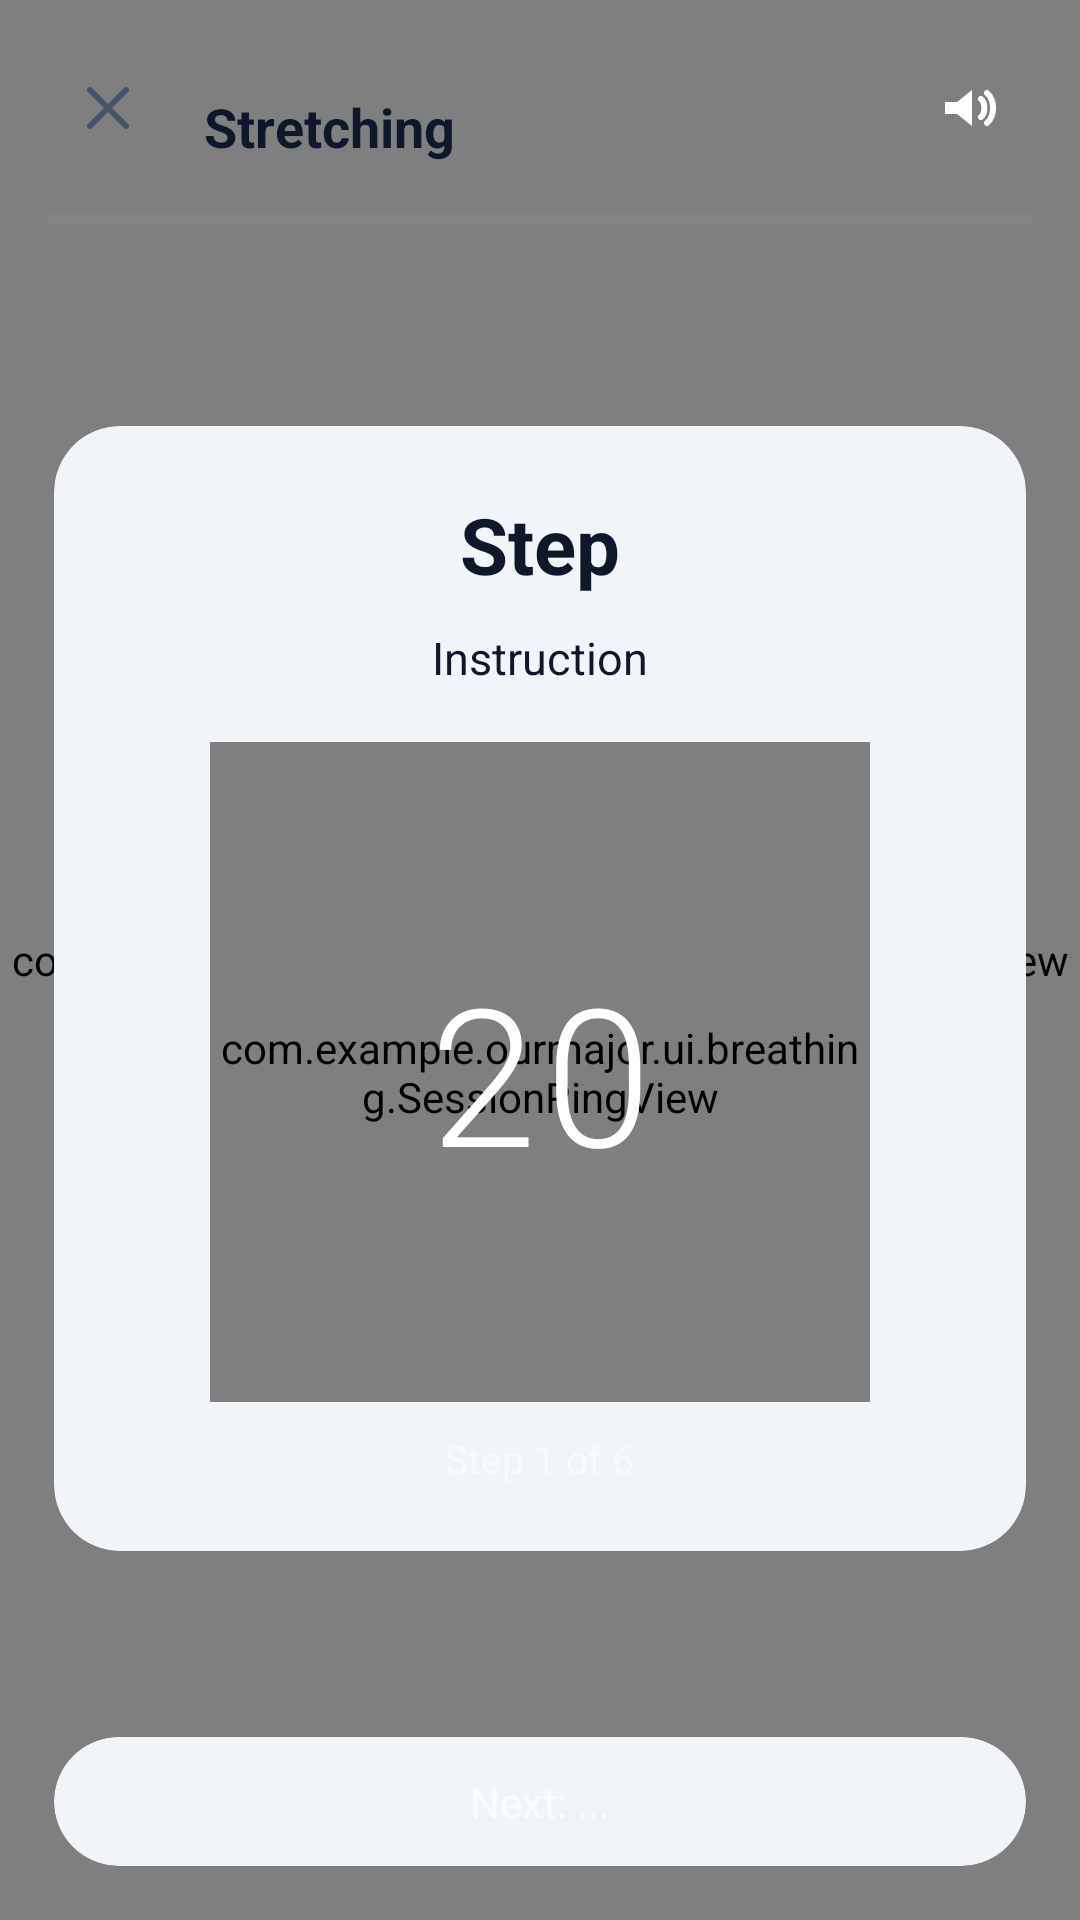

Point at icon controls on the screen. Image size 1080w x 1920h, points as (x,y).
Close session: (108,108)
Toggle voice guidance: (970,108)
